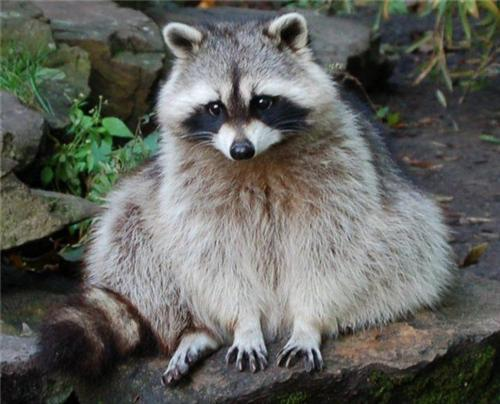raccoon: (79, 12, 456, 388)
